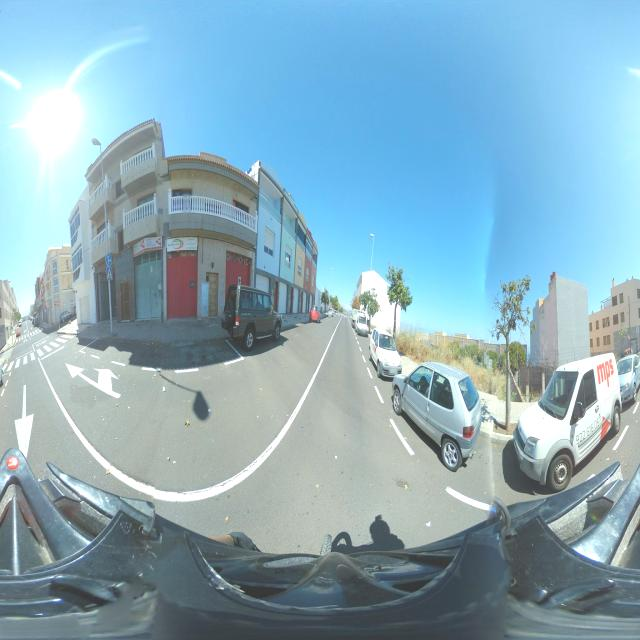car: (506, 349, 622, 495), (392, 359, 482, 472), (222, 284, 282, 351), (369, 331, 402, 380), (617, 354, 639, 407), (356, 312, 370, 336), (310, 305, 321, 323), (59, 311, 74, 322), (350, 308, 359, 324), (321, 304, 327, 318), (328, 307, 333, 317), (33, 318, 39, 326), (16, 328, 21, 337), (19, 320, 22, 326)
